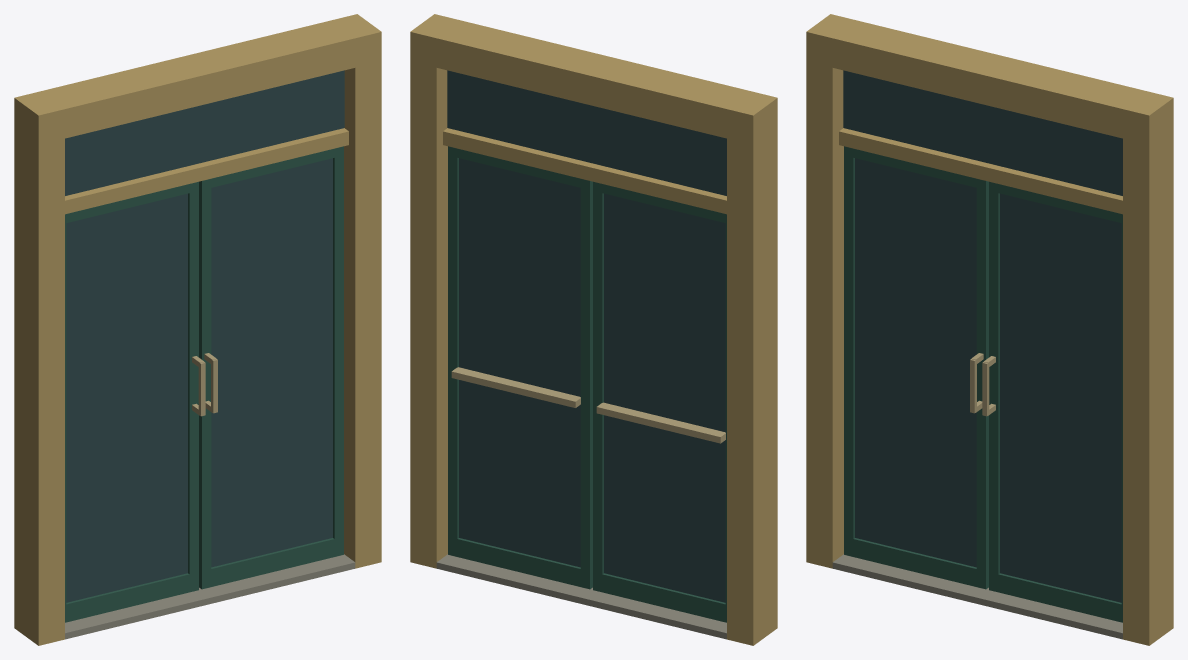
File: entrance-portal-l2-2026-11-26.glb
The picture shows the model from 3 angles, left to right: view 1: azimuth 30°, elevation 25°; view 2: azimuth 150°, elevation 25°; view 3: azimuth 330°, elevation 25°; orthographic projection.
Visible parts, largest first — view 1: portal-door, portal-trim; view 2: portal-door, portal-trim; view 3: portal-door, portal-trim.
Part boxes in pixels (bbox=[...]): portal-door: bbox=[65, 146, 343, 622]; portal-trim: bbox=[14, 14, 381, 645]; portal-door: bbox=[448, 146, 726, 622]; portal-trim: bbox=[410, 14, 777, 645]; portal-door: bbox=[844, 146, 1122, 622]; portal-trim: bbox=[806, 14, 1173, 645].
Size of the model in its own units: 1.95 by 2.88 by 0.24.
